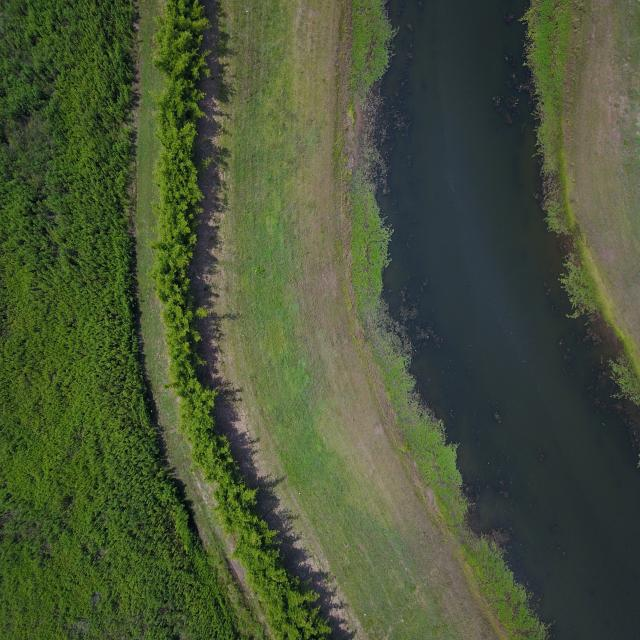fire: (376, 0, 640, 639)
